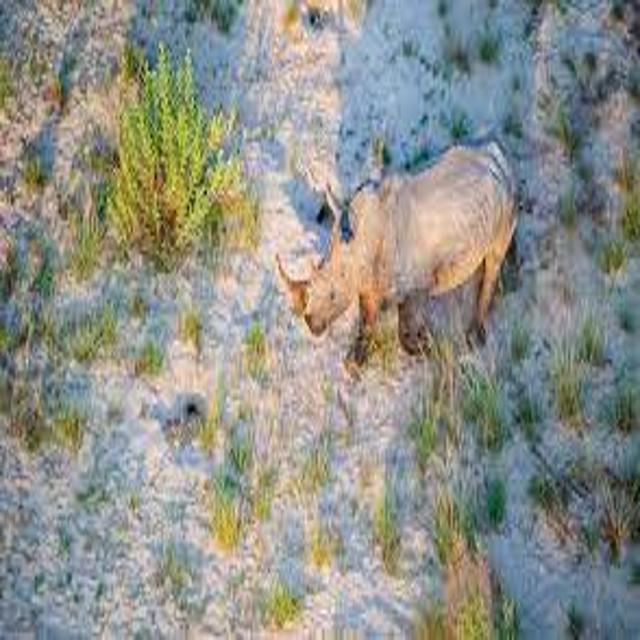rhino: (244, 104, 547, 399)
